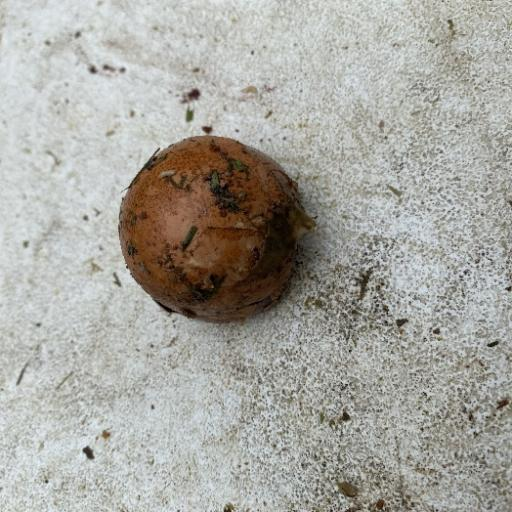Waste: (116, 133, 318, 324)
